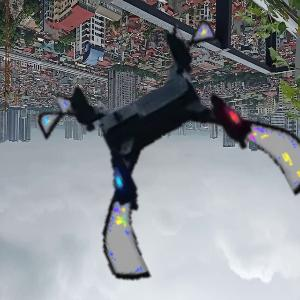drone: (60, 30, 298, 268)
